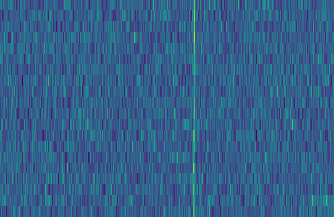signal: (189, 0, 198, 217)
